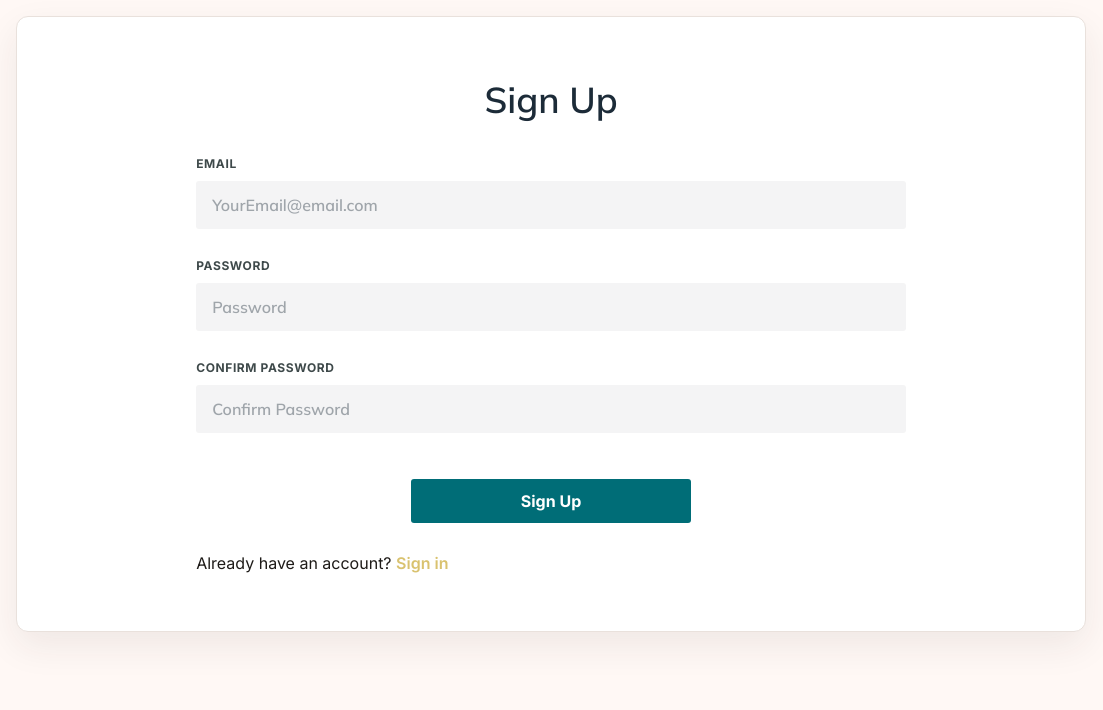
Scenario: Sign Up › shows an error if email is invalid
# enter an invalid email and try signing up
In the field with placeholder "YourEmail@email.com": (551, 205) [196,181,906,229], type "test"
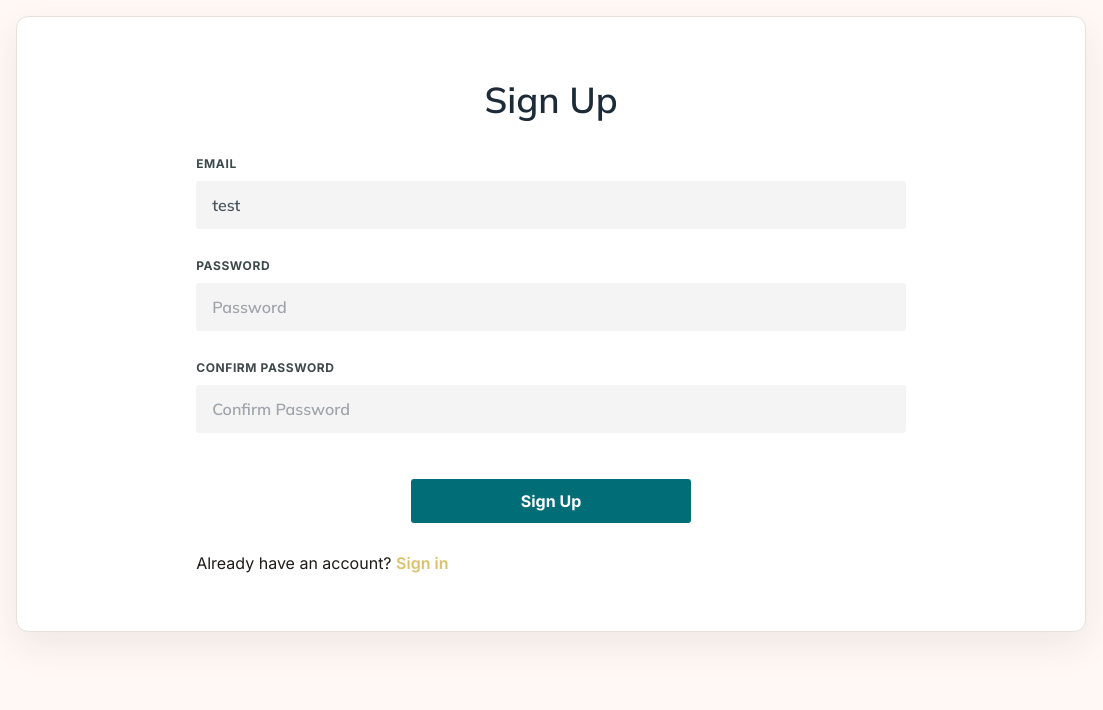
In the password field with placeholder "Password": (551, 307) [196,283,906,331], type "secret123"
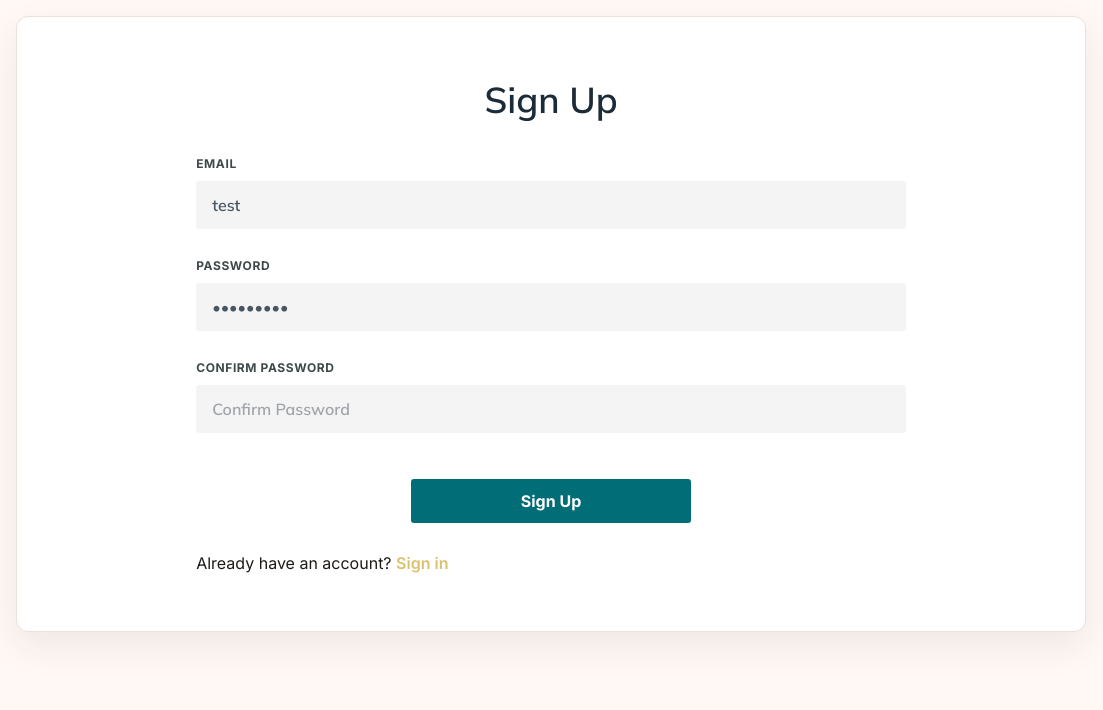
In the password field with placeholder "Confirm Password": (551, 409) [196,385,906,433], type "secret123"
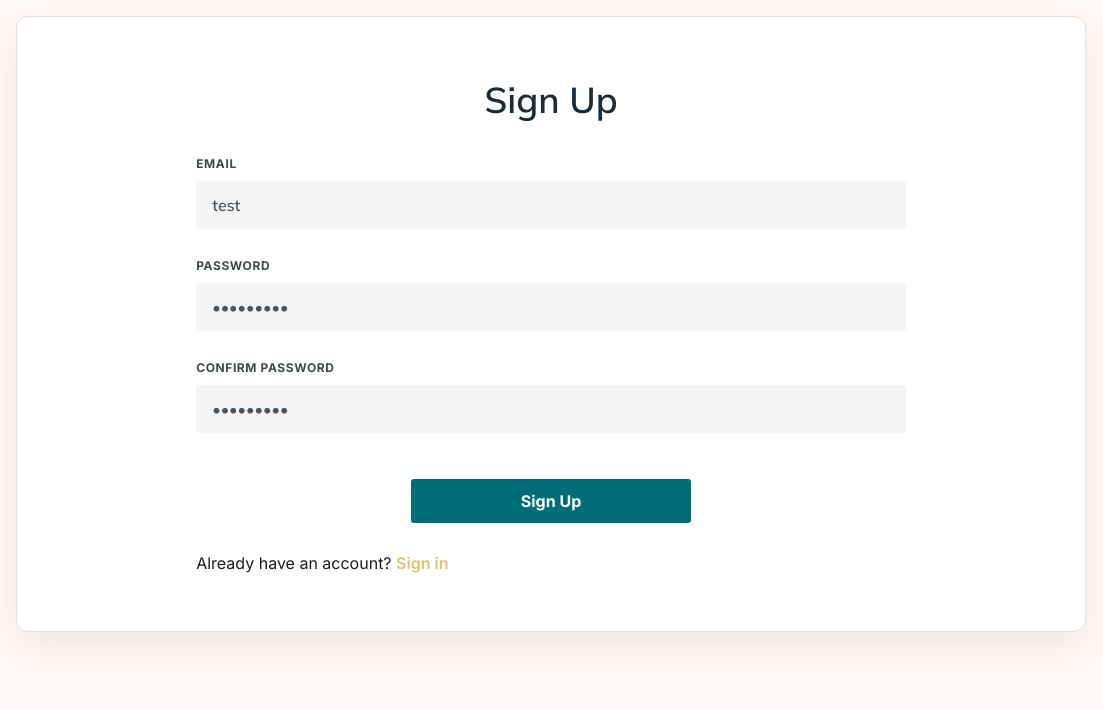
Submit the form from the button "Sign Up", box [411,479,691,523]
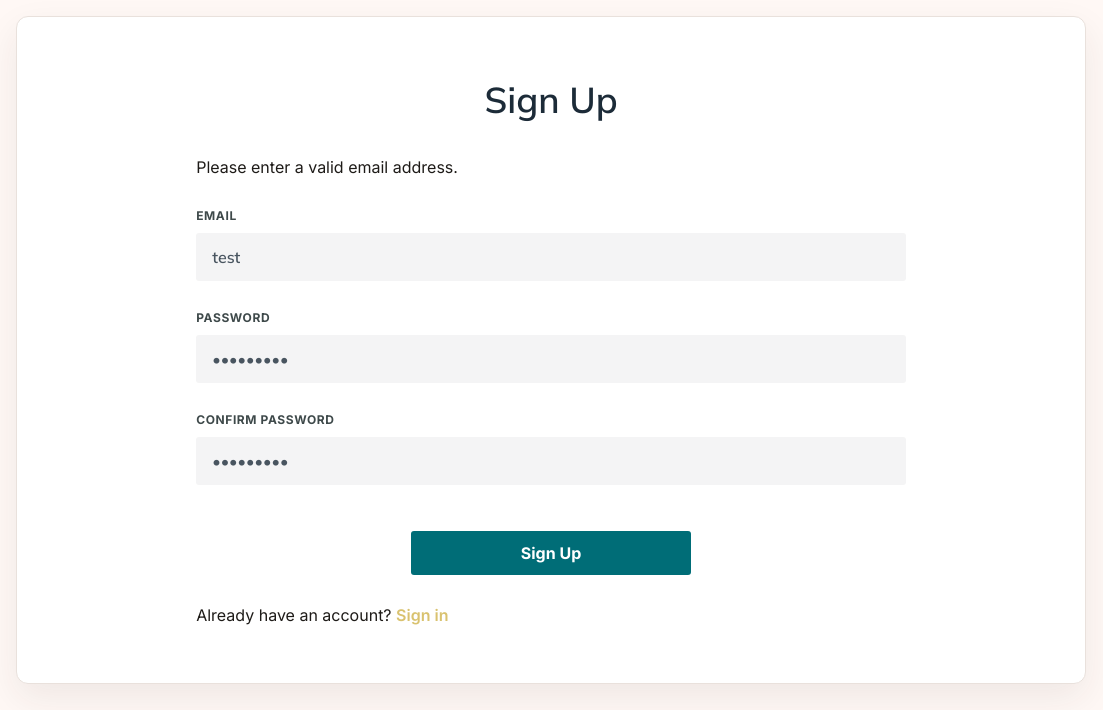
Expected: the text "Please enter a valid email address." is shown, [196,157,458,177]
